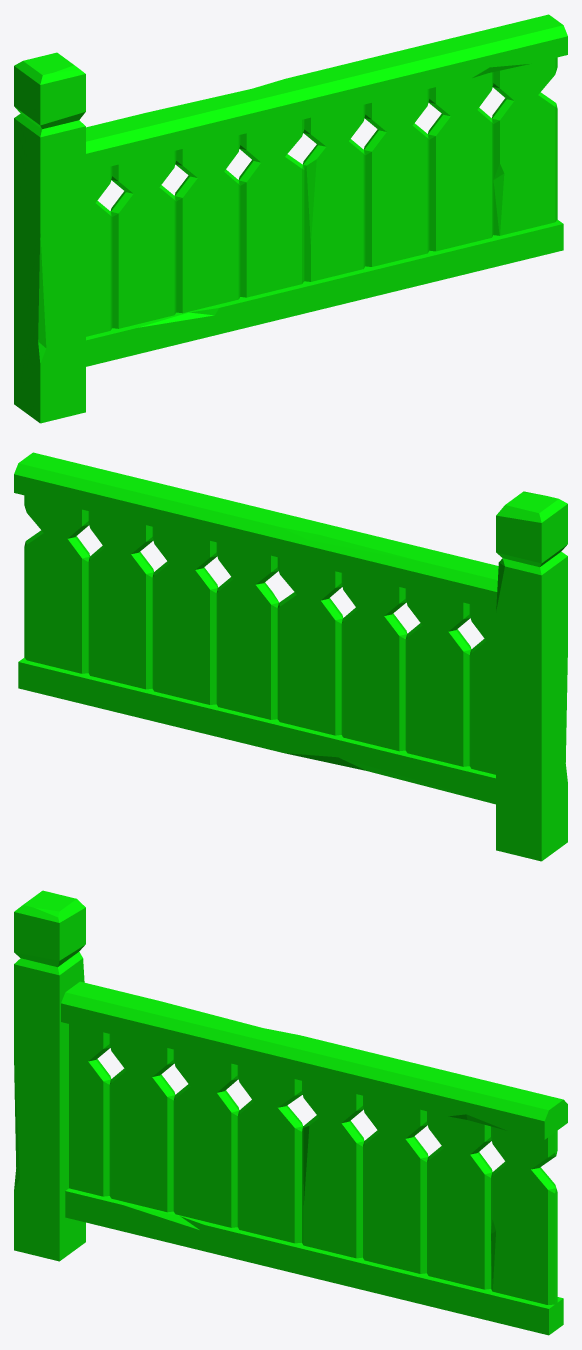
Rendered from SM_Railing_Wood_Post_B_2m.fbx.
The picture shows the model from 3 angles, top to bottom: view 1: azimuth 30°, elevation 25°; view 2: azimuth 150°, elevation 25°; view 3: azimuth 330°, elevation 25°; orthographic projection.
Visible parts, largest first — view 1: railing-wood-post-b-2m; view 2: railing-wood-post-b-2m; view 3: railing-wood-post-b-2m.
Part boxes in pixels (<box>): railing-wood-post-b-2m: <box>14,14,567,423</box>; railing-wood-post-b-2m: <box>14,452,567,861</box>; railing-wood-post-b-2m: <box>14,890,567,1335</box>.
Size of the model in its own units: 2.09 by 1.3 by 0.18.
